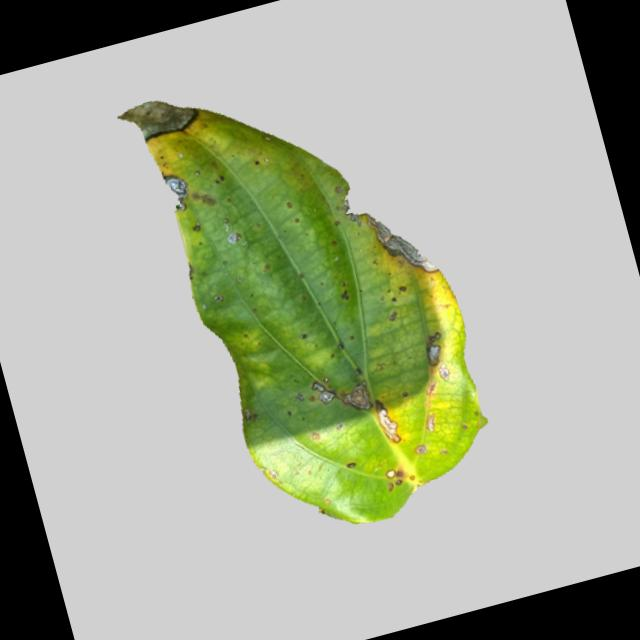yellow-mottle-virus: (100, 37, 506, 556)
